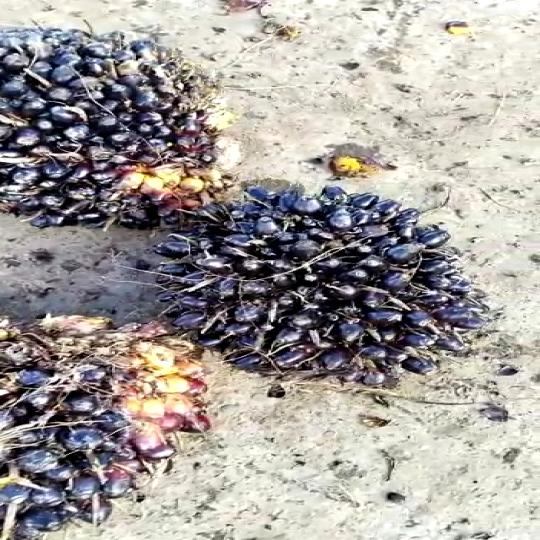mentah: (173, 154, 477, 407), (0, 22, 226, 246), (7, 308, 195, 532)
